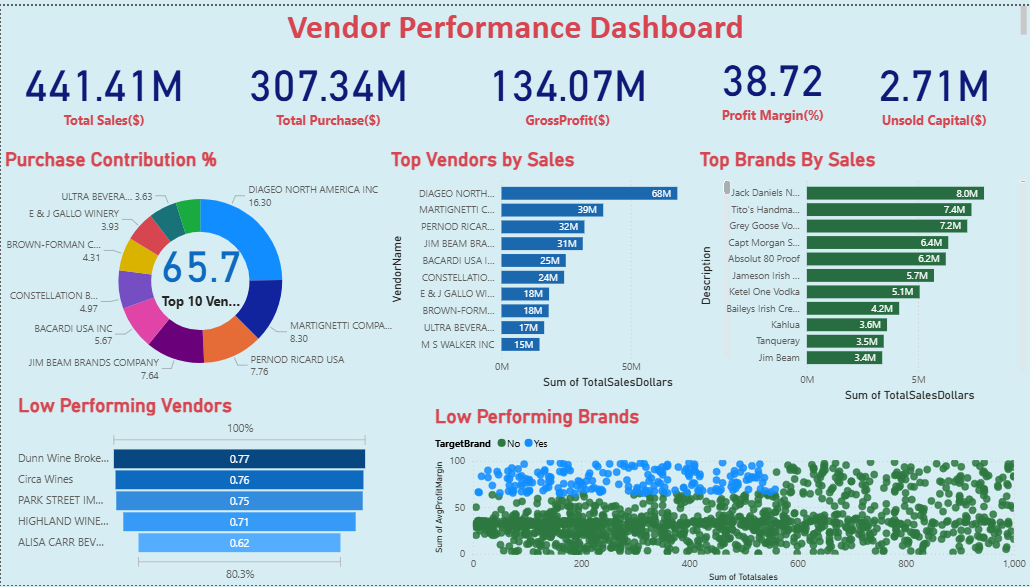

Layout of this report page (visuals, bound fields, positions):
{"tool":"powerbi","page":{"name":"1","canvas":[1280,720],"ordinal":0},"visuals":[{"type":"card","fields":{"Values":["Sum(vendor_sales_summary.TotalSalesDollars)"]},"box":[16,48,224,112],"z":0},{"type":"card","fields":{"Values":["Sum(vendor_sales_summary.TotalPurchaseDollars)"]},"box":[288,48,240,112],"z":1000},{"type":"card","fields":{"Values":["Sum(vendor_sales_summary.GrossProfit)"]},"box":[592,48,224,112],"z":2000},{"type":"card","fields":{"Values":["Avg(vendor_sales_summary.ProfitMargin)"]},"box":[864,32,192,128],"z":3000},{"type":"card","fields":{"Values":["Sum(vendor_sales_summary.unsold Capital)"]},"box":[1056,48,208,112],"z":4000},{"type":"donutChart","title":"Purchase Contribution %","fields":{"Y":["Sum(PurchaseContribution.PurchaseContribution%)"],"Category":["PurchaseContribution.VendorName"]},"box":[0,176,496,304],"z":5000},{"type":"card","fields":{"Values":["PurchaseContribution.Top10Contribution%"]},"box":[192,256,112,144],"z":6000},{"type":"barChart","title":"Top Vendors by Sales","fields":{"Category":["vendor_sales_summary.VendorName"],"Y":["Sum(vendor_sales_summary.TotalSalesDollars)"]},"box":[480,176,432,304],"z":7000},{"type":"funnel","title":"Low Performing Vendors ","fields":{"Y":["Sum(LowTurnoverVendor.AvgStockTurnOver)"],"Category":["LowTurnoverVendor.VendorName"]},"box":[17.2,481,446.6,239.7],"z":8000},{"type":"barChart","title":"Top Brands By Sales","fields":{"Category":["vendor_sales_summary.Description"],"Y":["Sum(vendor_sales_summary.TotalSalesDollars)"]},"box":[864,176,416,320],"z":9000},{"type":"scatterChart","title":"Low Performing Brands","fields":{"Category":["BrandPerformance.Description"],"X":["Sum(BrandPerformance.Totalsales)"],"Series":["BrandPerformance.TargetBrand"],"Y":["Sum(BrandPerformance.AvgProfitMargin)"]},"box":[534.5,496.6,744.8,224.1],"z":10000},{"type":"textbox","box":[16,0,1264,48],"z":11000}]}

Visuals, with their boxes in screenshot pixels (x1, y1, x2, y2), scaled from the page's 1280x720 canvas onto the 1030x587 screenshot:
card - Sum(vendor_sales_summary.TotalSalesDollars): box(13, 39, 193, 130)
card - Sum(vendor_sales_summary.TotalPurchaseDollars): box(232, 39, 425, 130)
card - Sum(vendor_sales_summary.GrossProfit): box(476, 39, 657, 130)
card - Avg(vendor_sales_summary.ProfitMargin): box(695, 26, 850, 130)
card - Sum(vendor_sales_summary.unsold Capital): box(850, 39, 1017, 130)
"Purchase Contribution %" donutChart: box(0, 143, 399, 391)
card - PurchaseContribution.Top10Contribution%: box(154, 209, 245, 326)
"Top Vendors by Sales" barChart: box(386, 143, 734, 391)
"Low Performing Vendors " funnel: box(14, 392, 373, 586)
"Top Brands By Sales" barChart: box(695, 143, 1029, 404)
"Low Performing Brands" scatterChart: box(430, 405, 1029, 586)
textbox: box(13, 0, 1029, 39)
